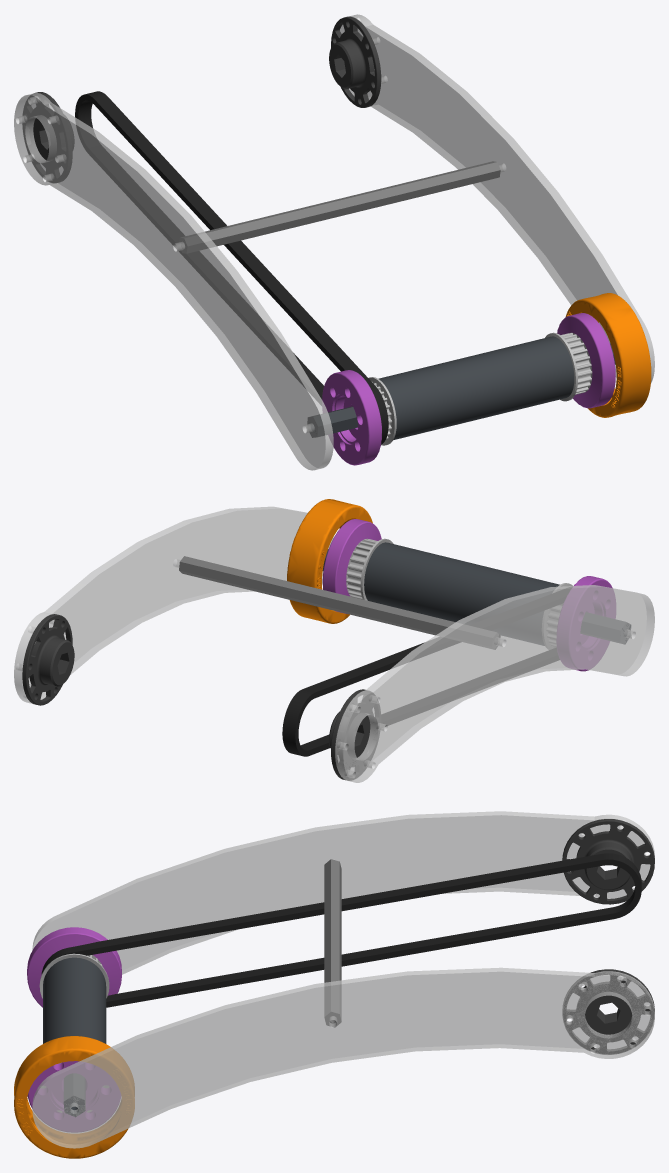
3 renders of one model, top to bottom at view 1: azimuth 30°, elevation 25°; view 2: azimuth 150°, elevation 25°; view 3: azimuth 270°, elevation 25°, orthographic.
Parts seen in each view (by area): view 1: 1/2" Hex Bore Aluminum Versahub (217-2592); view 2: 1/2" Hex Bore Aluminum Versahub (217-2592); view 3: 1/2" Hex Bore Aluminum Versahub (217-2592).
Part boxes in pixels (x1,y1,x2,y2): 1/2" Hex Bore Aluminum Versahub (217-2592): (14, 14, 654, 470); 1/2" Hex Bore Aluminum Versahub (217-2592): (14, 499, 654, 782); 1/2" Hex Bore Aluminum Versahub (217-2592): (14, 811, 654, 1158).
Bounding box in the file's own units: 0.2286 × 0.1287 × 0.386.
